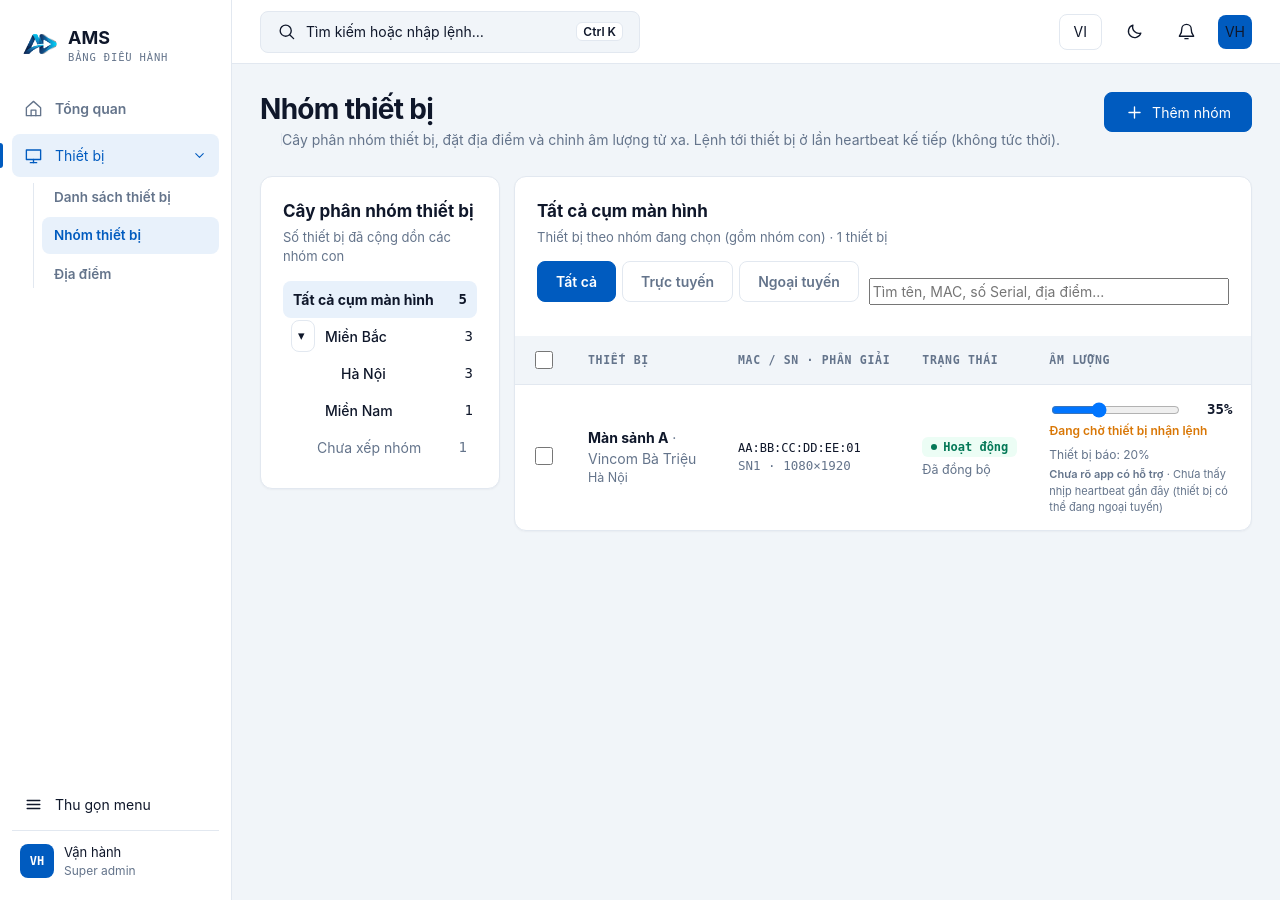
Test: d-tree: trang Nhóm thiết bị › thanh trượt âm lượng: debounce rồi gửi MỘT lệnh set_volume, hiện trạng thái chờ
The width and height of the screenshot is (1280, 900).
expect the text "Đang chờ thiết bị nhận lệnh" is shown: met, box [1049, 422, 1207, 440]
expect the text "Thiết bị báo: 20%" is shown: met, box [1049, 446, 1150, 464]
Step 1. Set the slider named "Âm lượng Màn sảnh A" to "40" → [1104, 410], box [1051, 402, 1180, 418]
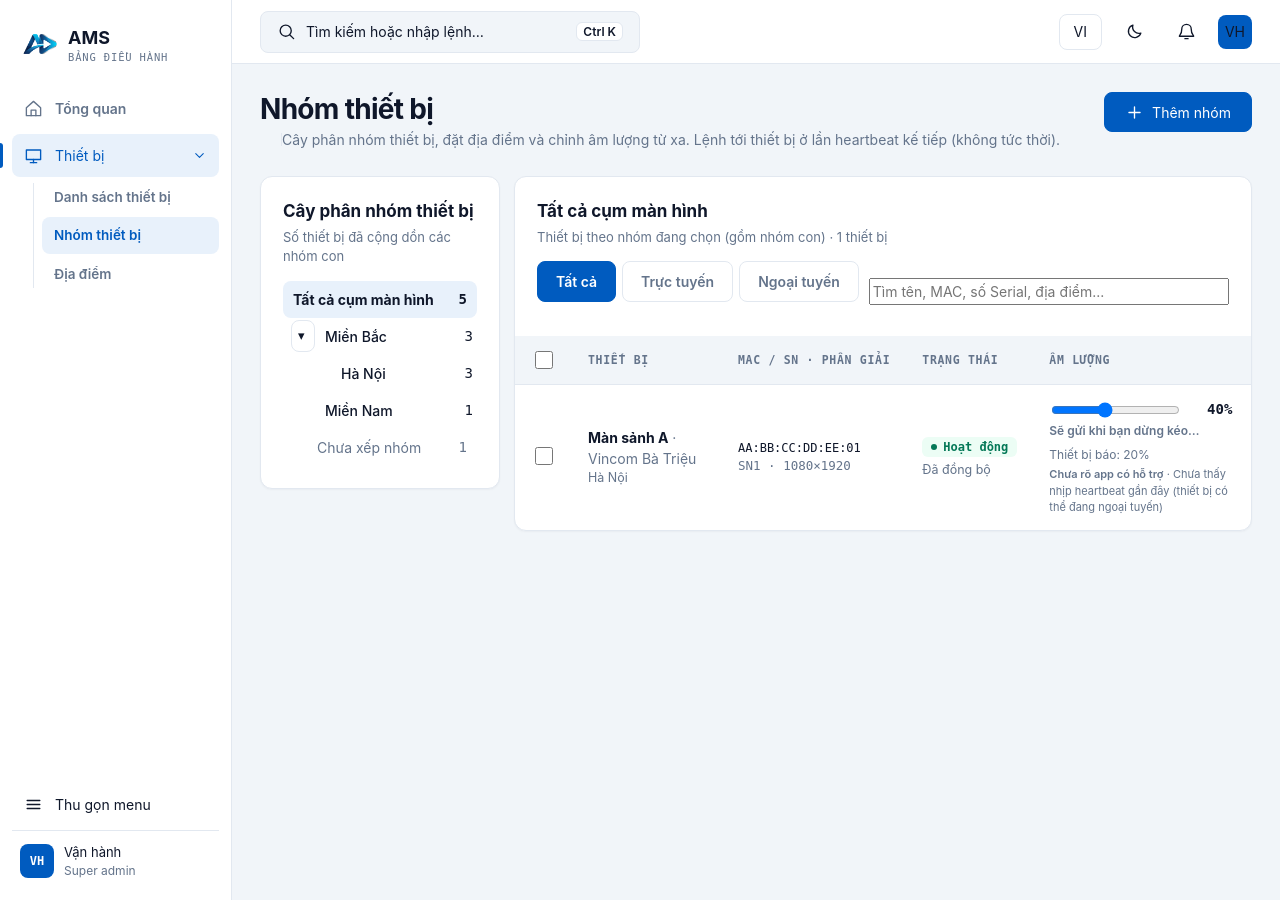
Step 2. Set the slider named "Âm lượng Màn sảnh A" to "55" → [1121, 410], box [1051, 402, 1180, 418]
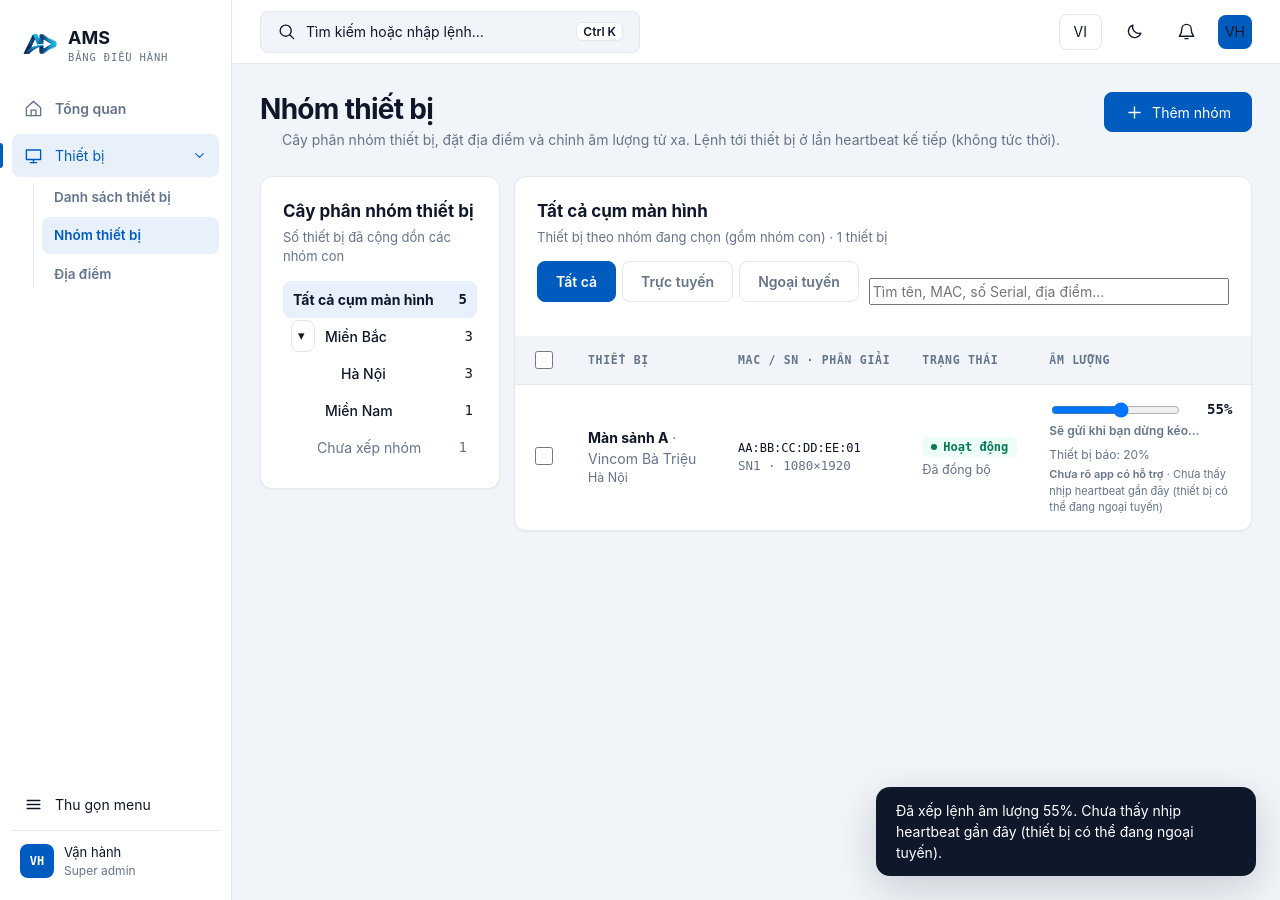
expect the text "55%" is shown: met, box [1207, 401, 1232, 417]
